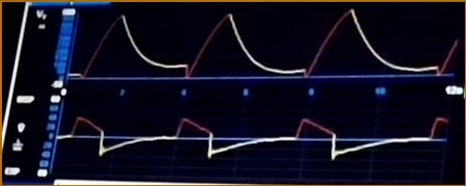Flow: (62, 105, 448, 175)
Leakage Volume: (69, 13, 460, 82)
